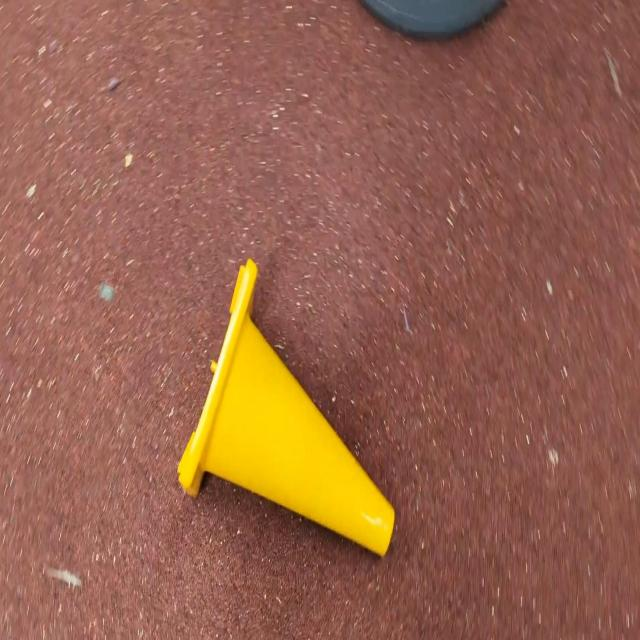frc_cone: (176, 258, 396, 566)
